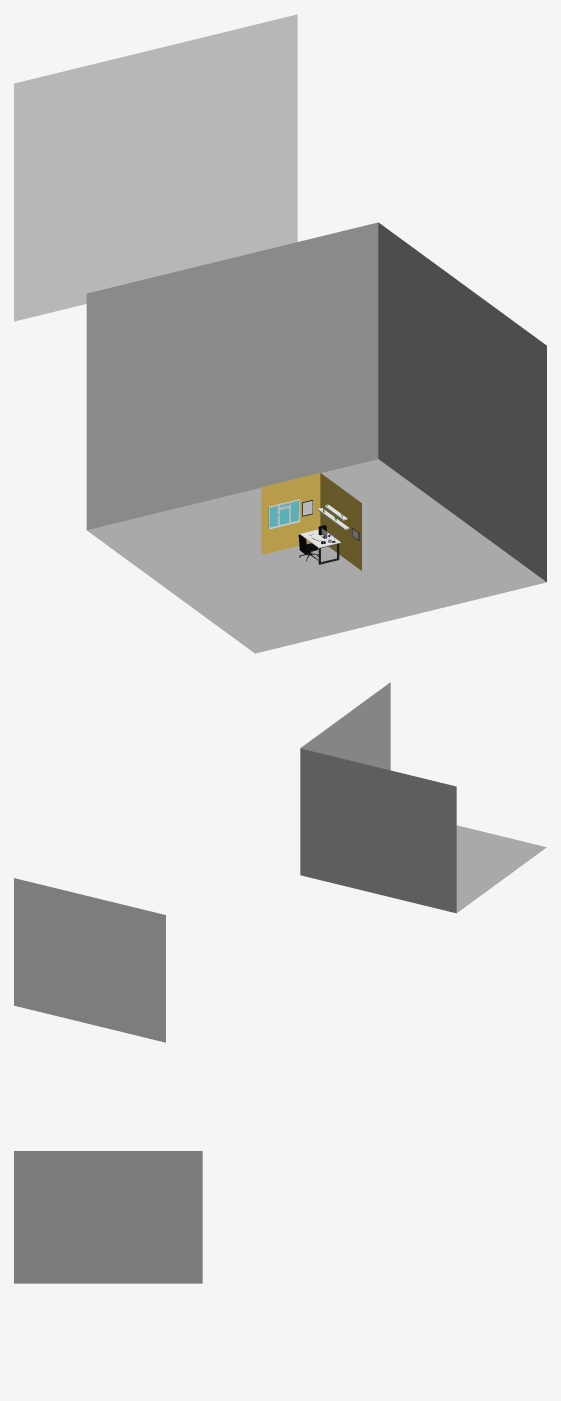
File: room.glb
The picture shows the model from 3 angles, top to bottom: view 1: azimuth 30°, elevation 25°; view 2: azimuth 150°, elevation 25°; view 3: azimuth 270°, elevation 25°; orthographic projection. The views are drawn at different scales.
Parts seen in each view (by area): view 1: polySurface794.001; view 2: polySurface794.001; view 3: polySurface794.001.
Boxes of the visible parts, box(x1,y1,x2,y2) form: polySurface794.001: box(14, 14, 546, 653); polySurface794.001: box(14, 682, 546, 1042); polySurface794.001: box(14, 1151, 202, 1283).
Size of the model in its own units: 1.74 by 0.9925 by 2.76.
